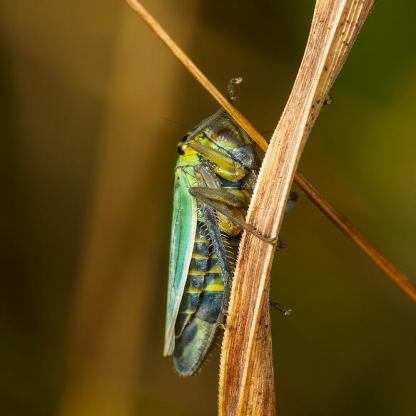Green-Leafhopper: (157, 79, 294, 386)
